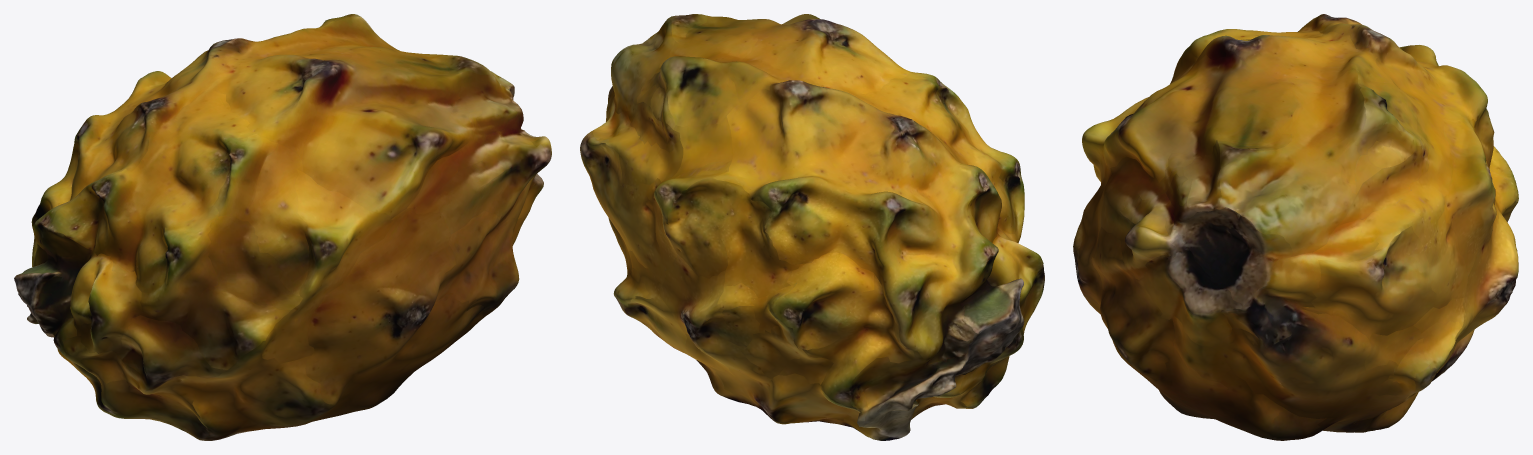
Rendered from yellow_pithaya_yellow_dragonfruit.glb.
The picture shows the model from 3 angles, left to right: view 1: azimuth 30°, elevation 25°; view 2: azimuth 150°, elevation 25°; view 3: azimuth 270°, elevation 25°; orthographic projection. The views are drawn at different scales.
Parts seen in each view (by area): view 1: 6349439b-f35a-4c25-8205-d56485273cf8_0_6349439b-f35a-4c25-82; view 2: 6349439b-f35a-4c25-8205-d56485273cf8_0_6349439b-f35a-4c25-82; view 3: 6349439b-f35a-4c25-8205-d56485273cf8_0_6349439b-f35a-4c25-82.
Boxes of the visible parts, box(x1,y1,x2,y2) form: 6349439b-f35a-4c25-8205-d56485273cf8_0_6349439b-f35a-4c25-82: box(14, 14, 551, 440); 6349439b-f35a-4c25-8205-d56485273cf8_0_6349439b-f35a-4c25-82: box(580, 14, 1044, 440); 6349439b-f35a-4c25-8205-d56485273cf8_0_6349439b-f35a-4c25-82: box(1073, 14, 1518, 440).
Bounding box in the file's own units: 1.04 × 0.7718 × 0.7988.
1 material, 1 textured.
